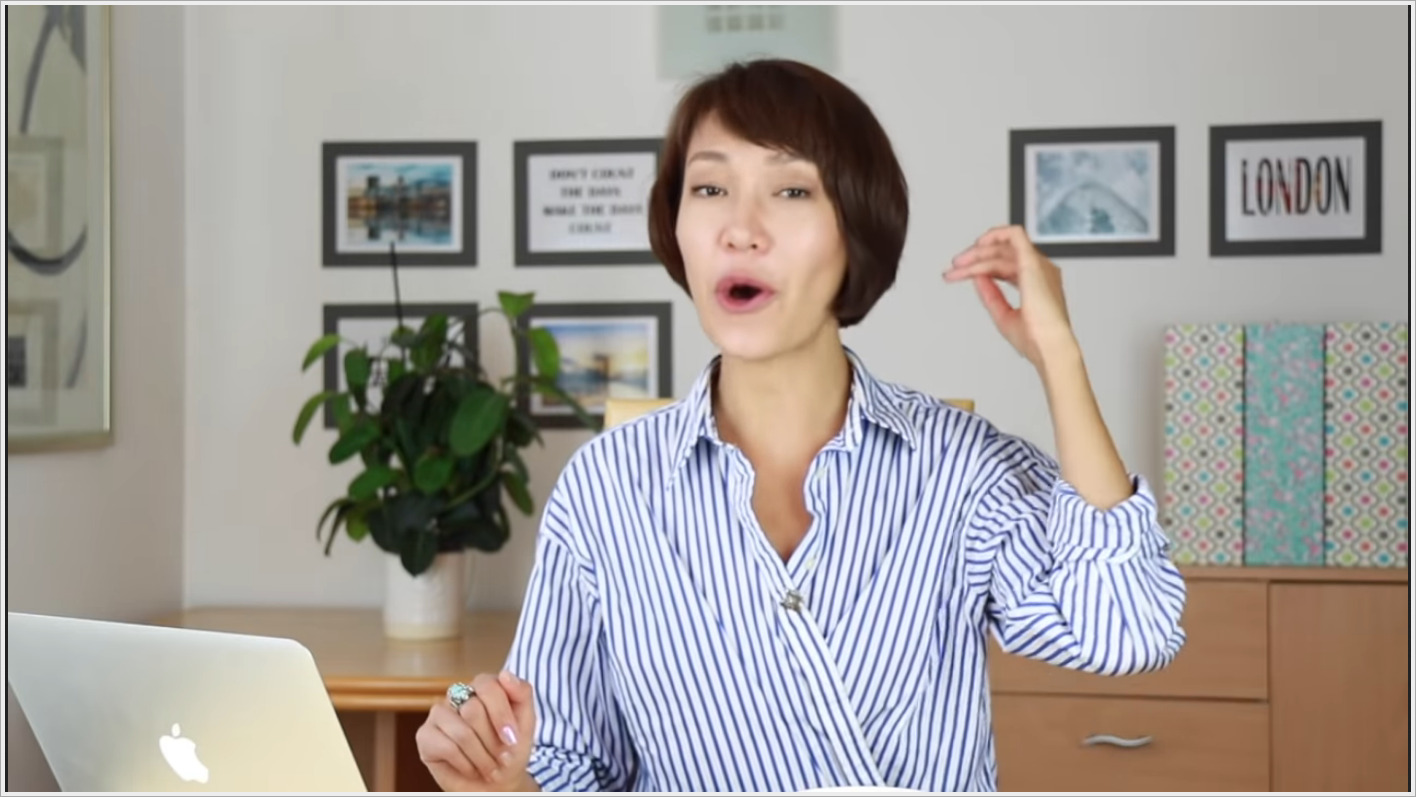hand: (944, 223, 1095, 363), (414, 667, 539, 789)
